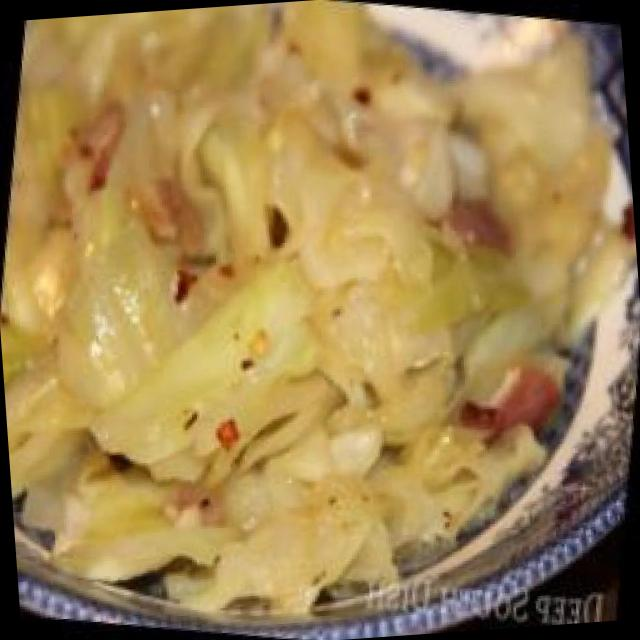chinese_cabbage: (0, 0, 617, 601)
